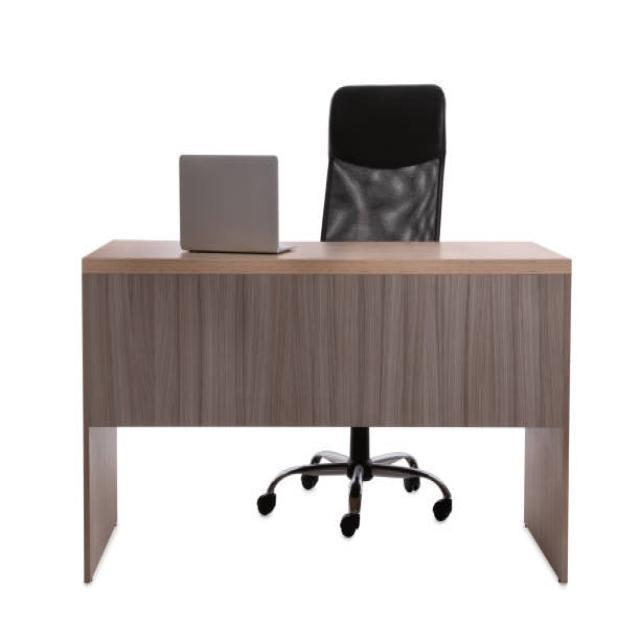table: (80, 238, 572, 584)
